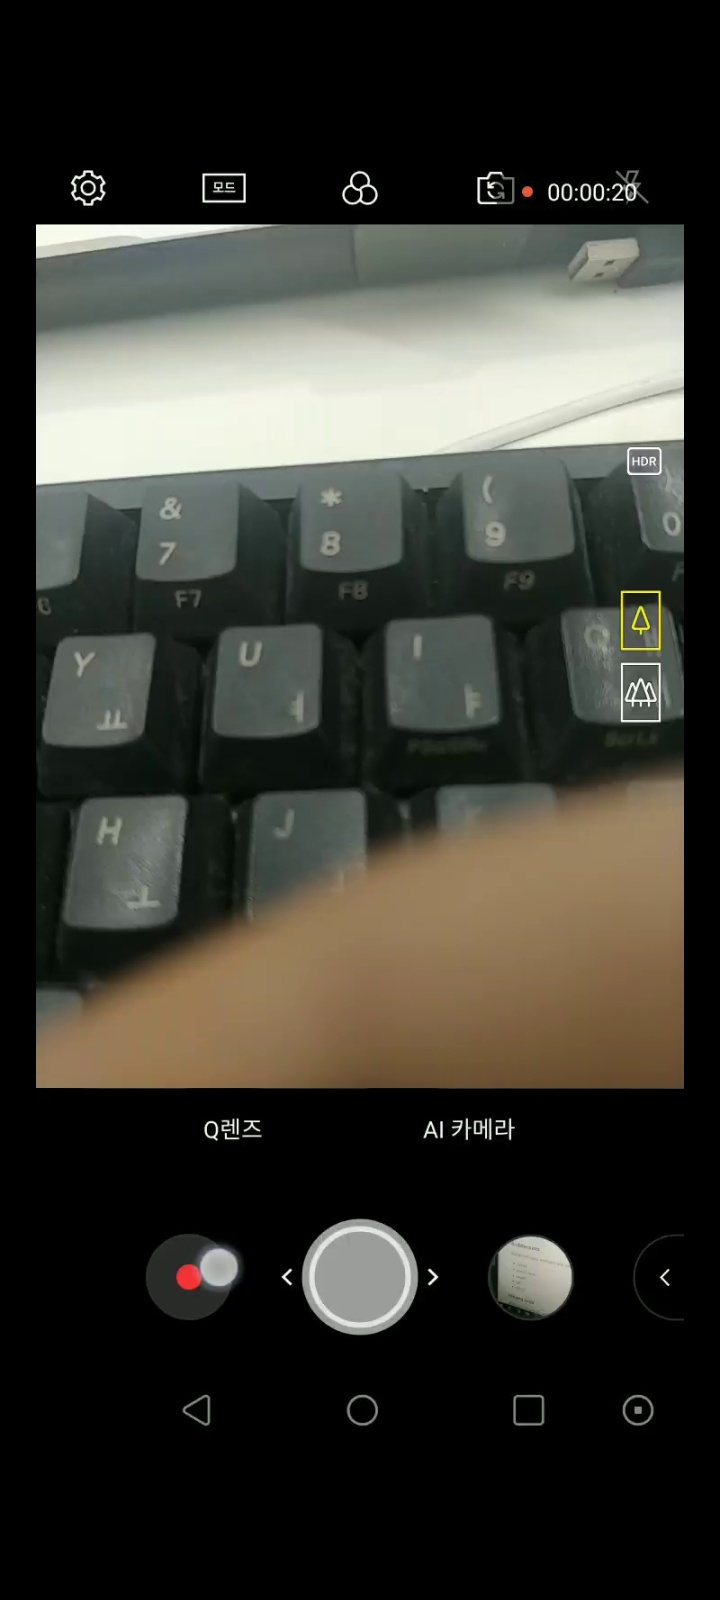Cursor: (198, 1246, 243, 1291)
